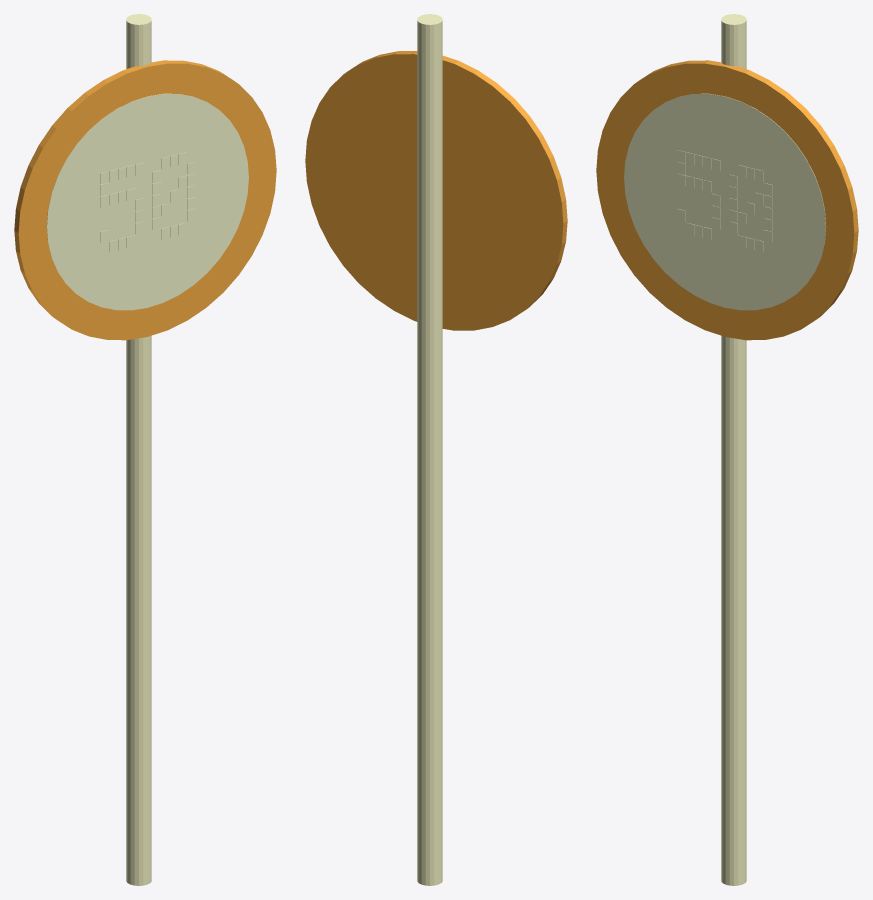
File: sign_speed_limit_50.glb
3 views of the same model, side by side, from view 1: azimuth 30°, elevation 25°; view 2: azimuth 150°, elevation 25°; view 3: azimuth 330°, elevation 25° (orthographic).
Visible parts, largest first — view 1: layer_1_00, plate_base_00, pole; view 2: plate_base_00, pole; view 3: layer_1_00, plate_base_00, pole.
Part boxes in pixels (x1,y1,x2,y2): layer_1_00: [46, 93, 248, 310]; plate_base_00: [14, 60, 276, 340]; pole: [126, 14, 151, 885]; plate_base_00: [305, 51, 567, 330]; pole: [417, 14, 442, 885]; layer_1_00: [624, 93, 826, 310]; plate_base_00: [596, 60, 858, 340]; pole: [721, 14, 746, 885].
Bounding box in the file's own units: 0.69 × 2.2 × 0.0725.
